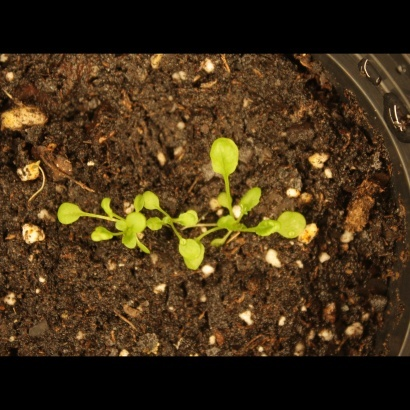leaf: (206, 134, 244, 178), (179, 235, 209, 278), (273, 210, 310, 241), (54, 199, 89, 229), (238, 186, 265, 218), (253, 217, 281, 240), (123, 211, 148, 235), (90, 224, 115, 247), (99, 194, 122, 219), (175, 208, 200, 231), (216, 186, 239, 210), (119, 234, 142, 257), (145, 213, 168, 236), (125, 190, 148, 213), (141, 190, 164, 213), (211, 231, 234, 254)
